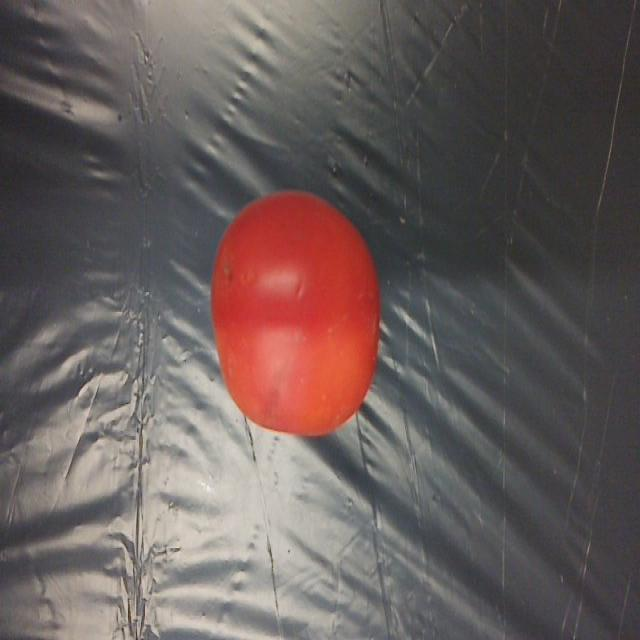kirmizi: (200, 186, 400, 428)
